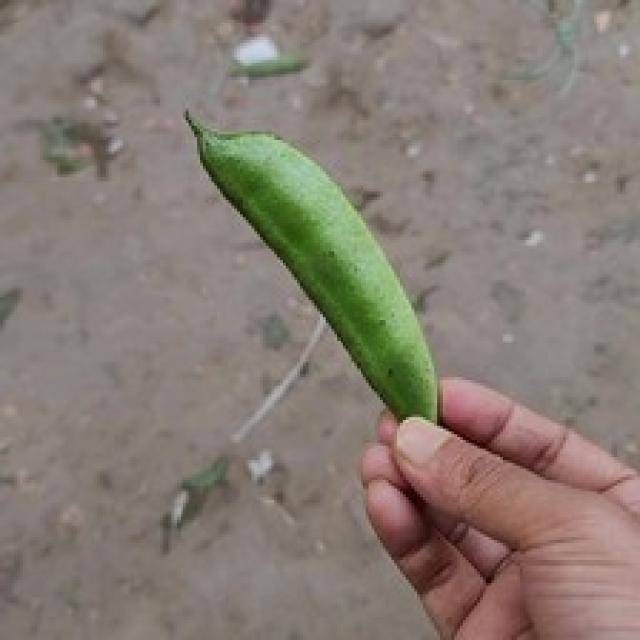Bean: (180, 106, 440, 426)
